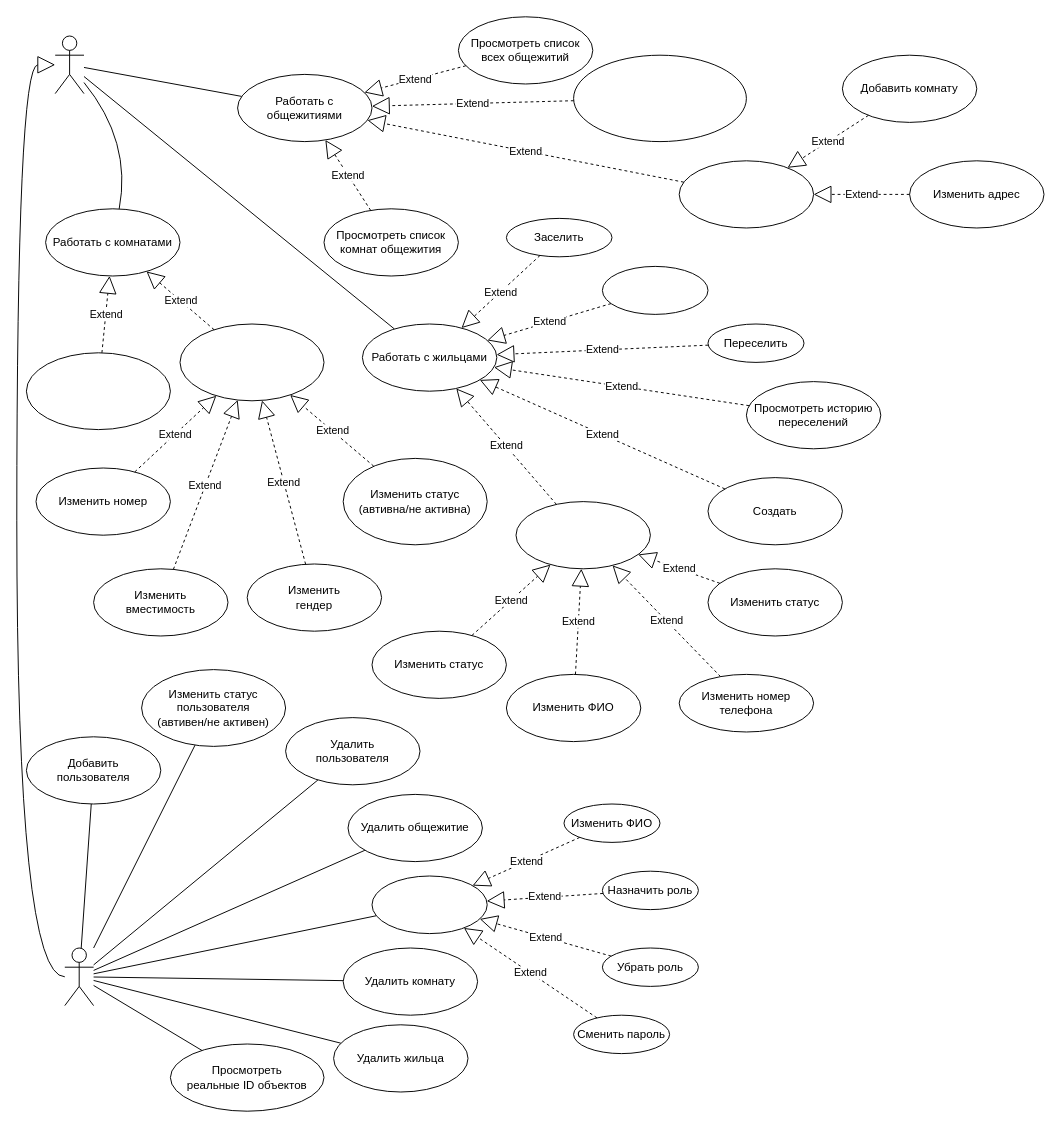
This 1061x1128 diagram has some shape labels left out. The centre of each missing label's shape, as x and y in pixels:
Администратор: the point at 79,976
Выселить: the point at 654,289
Менеджер общежитий: the point at 69,64
Просмотреть подробную информацию о комнате: the point at 97,391
Просмотреть подробную информацию об общежитии: the point at 659,98
Редактировать информацию: the point at 582,535
Редактировать информацию о комнате: the point at 251,362
Редактировать информацию об общежитии: the point at 746,194
Редактировать пользователя: the point at 429,904
